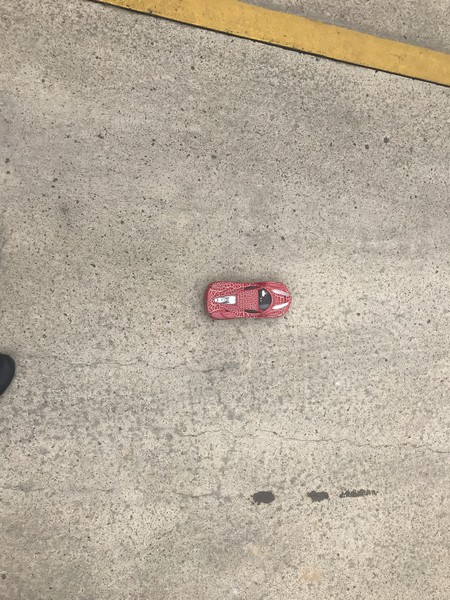RC: (204, 278, 293, 323)
